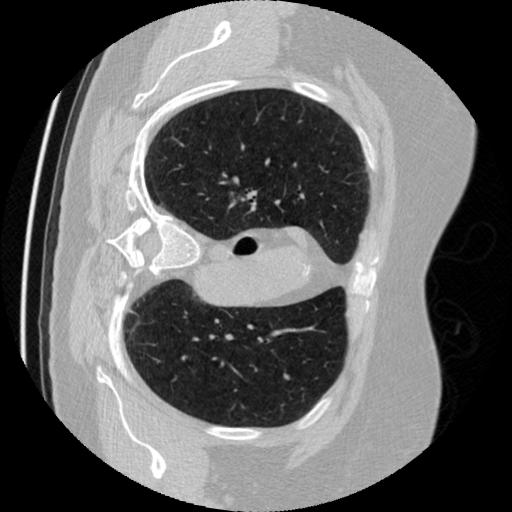nodule: (282, 371, 293, 382)
